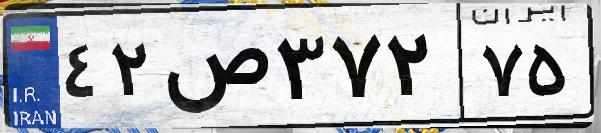2: (385, 28, 445, 110), (110, 28, 158, 98)
3: (270, 28, 330, 110)
4: (57, 26, 110, 100)
5: (525, 38, 570, 115)
7: (330, 28, 385, 110), (475, 38, 525, 113)
ص: (158, 20, 270, 120)
